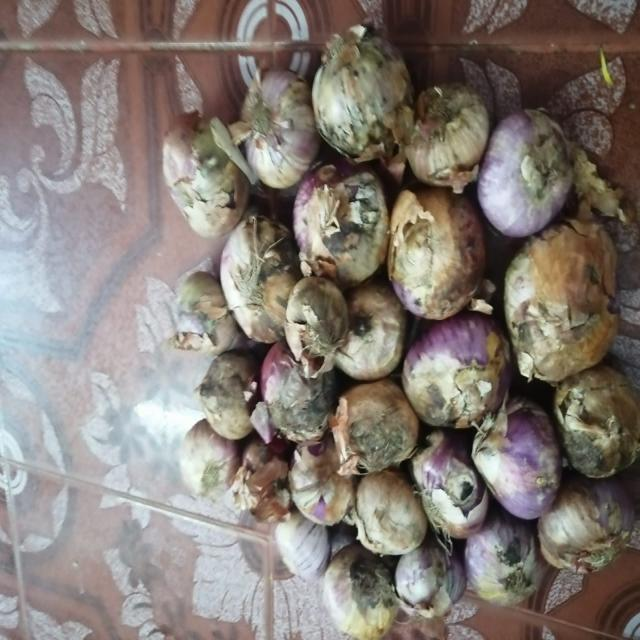rotten: (560, 410, 610, 478), (348, 413, 399, 462), (321, 100, 386, 138), (338, 189, 366, 267), (296, 303, 340, 347), (202, 377, 236, 427), (281, 390, 321, 432), (500, 545, 524, 569)
